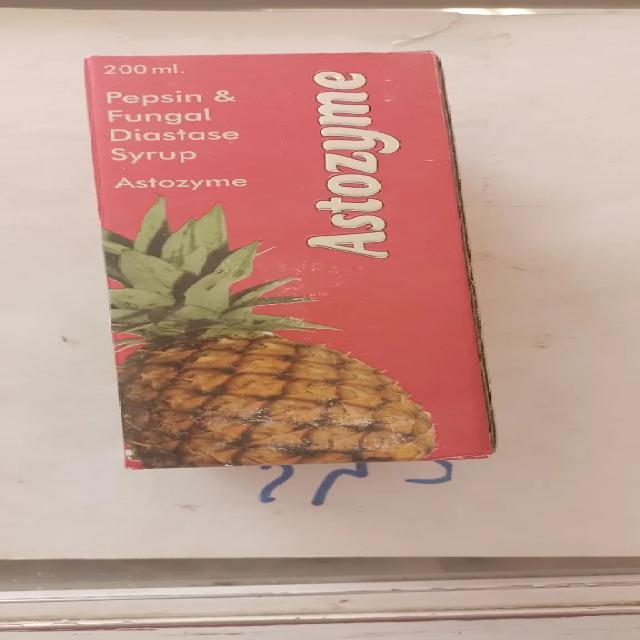drug-name: (308, 58, 405, 266)
